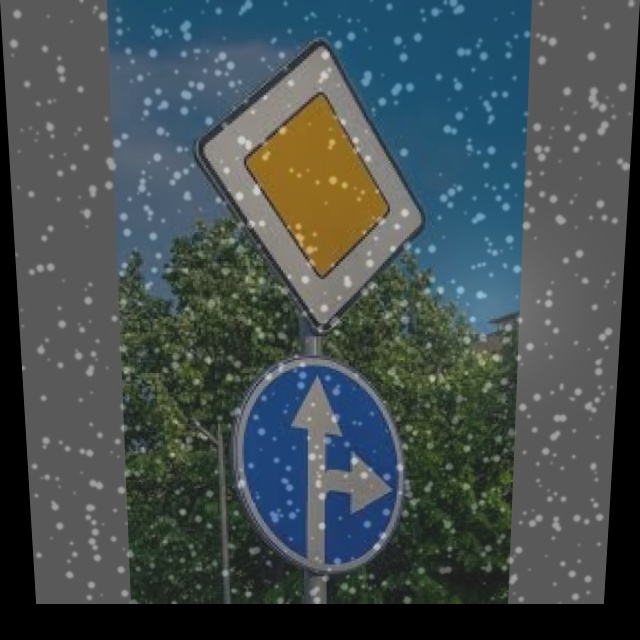Compulsory_Ahead_or_Turn_Right: (234, 353, 407, 570)
